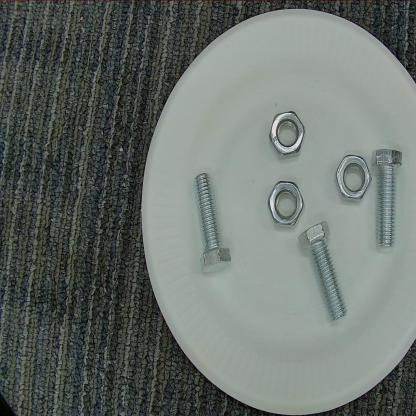FOD: (295, 217, 352, 329), (184, 169, 238, 278), (372, 145, 407, 258), (268, 105, 312, 161), (333, 150, 374, 206), (267, 178, 305, 229)
